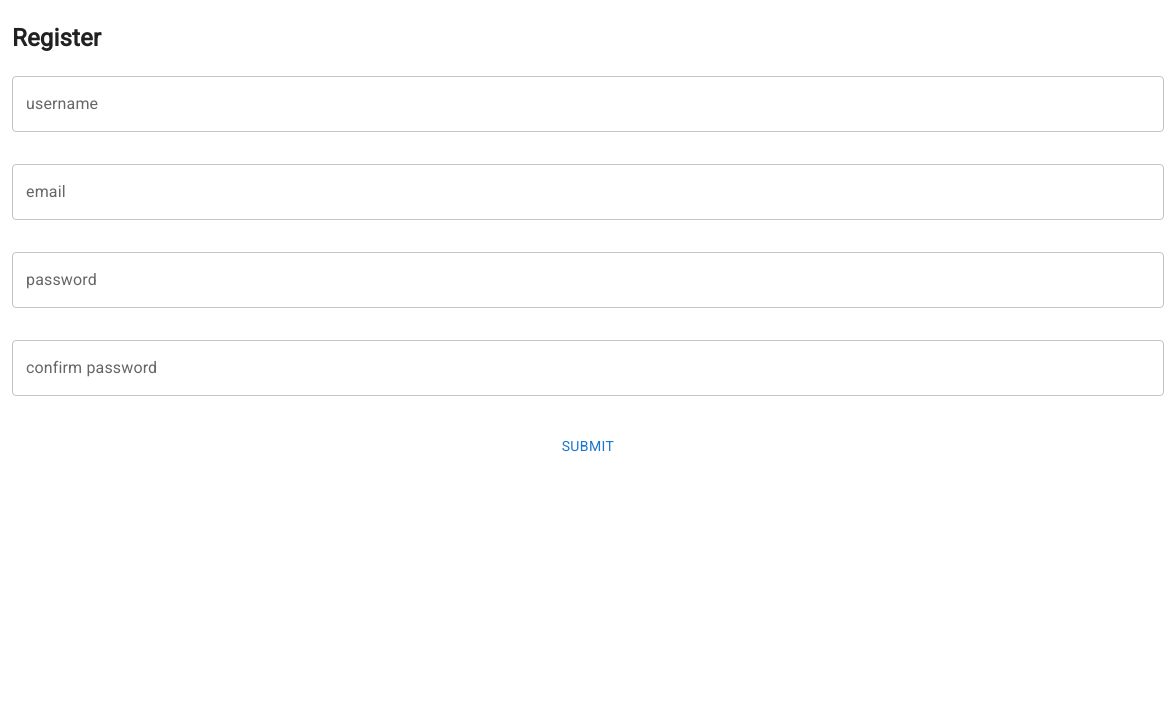
Test: Register Page › displays error message for missing email
In the field with placeholder "username": (588, 104) [12,76,1164,132], type "user"
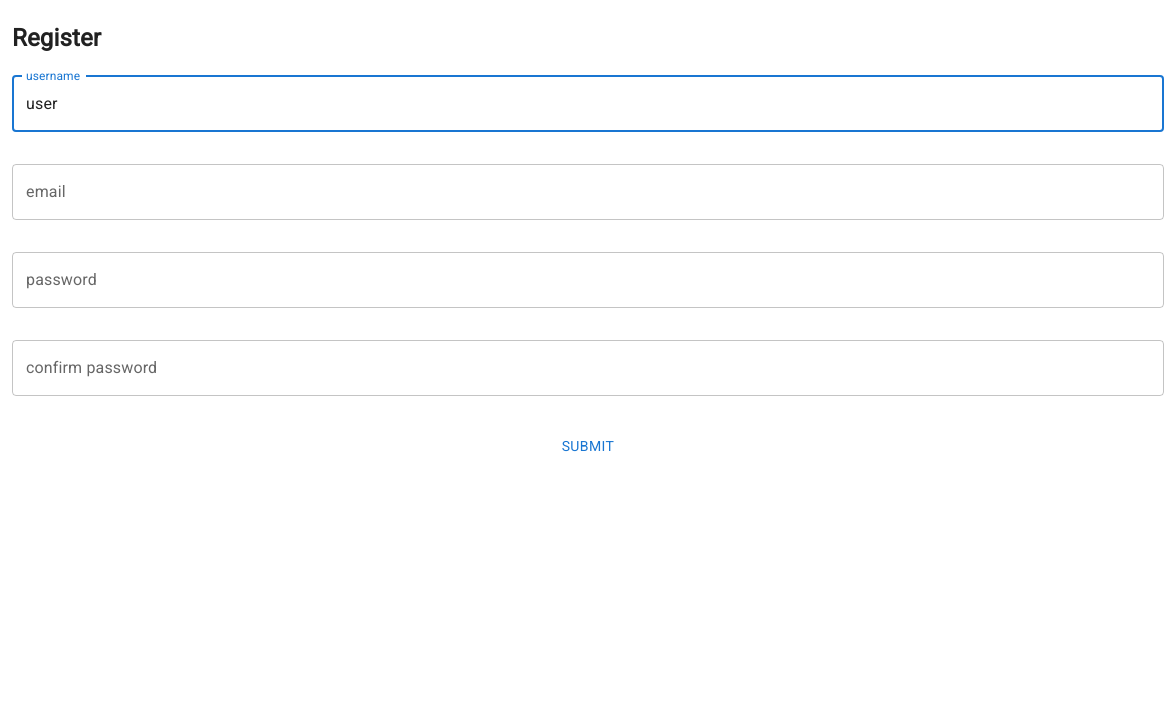
In the password field with placeholder "password": (588, 280) [12,252,1164,308], type "password123"
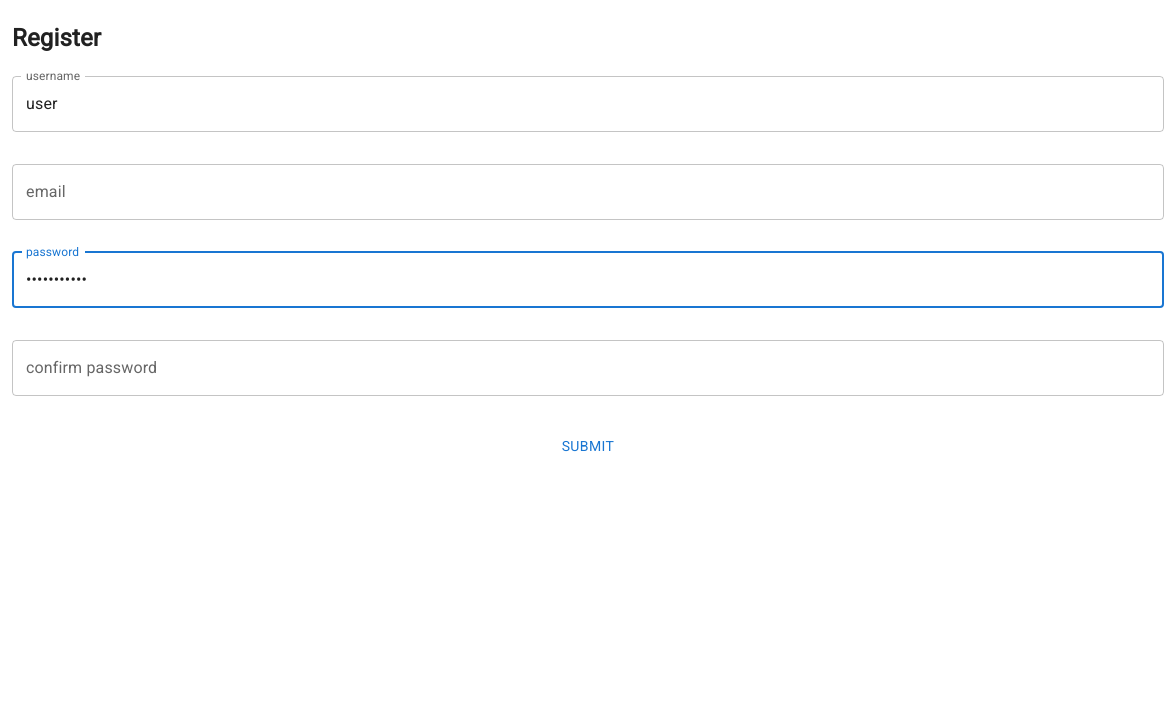
In the password field with placeholder "confirm password": (588, 368) [12,340,1164,396], type "password123"
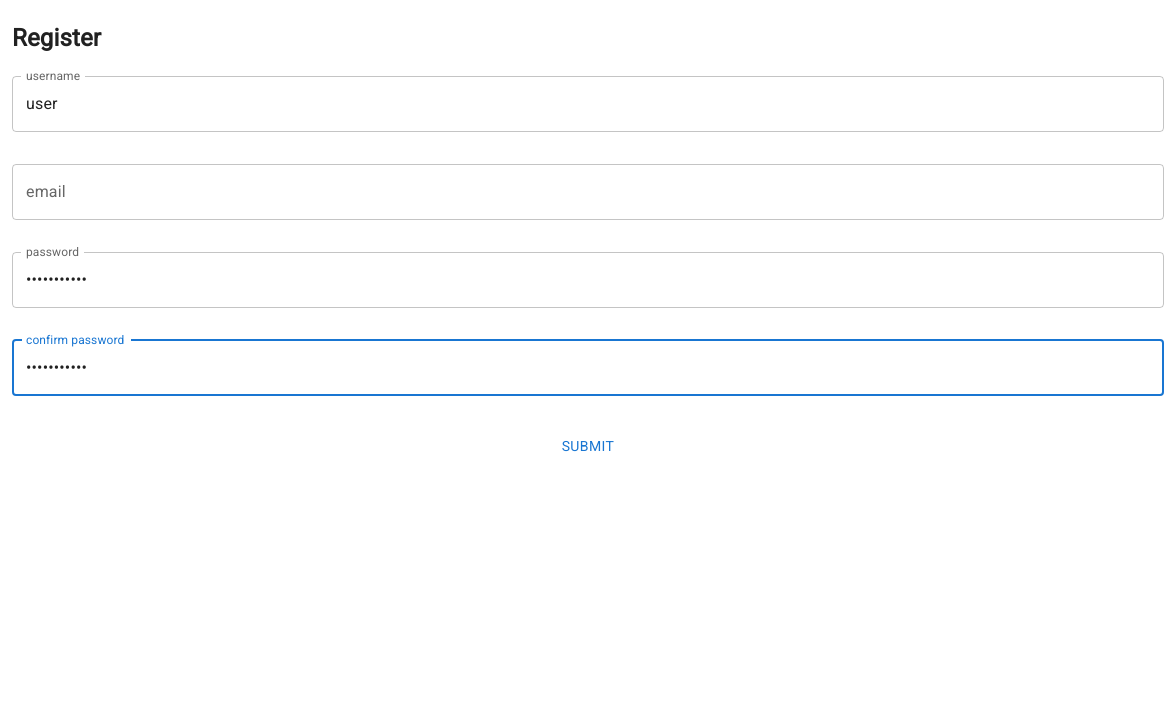
Click the button "Submit": (588, 446) [12,428,1164,464]
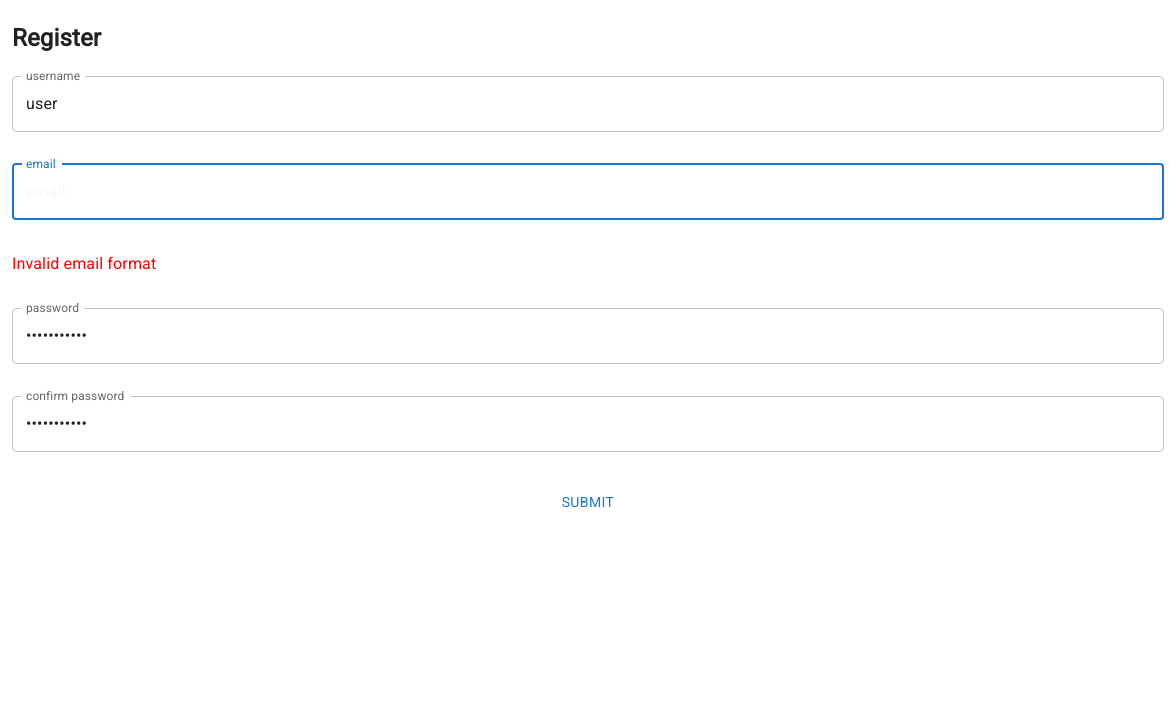
Expected: the text "Invalid email format" is shown, [12,254,156,273]
